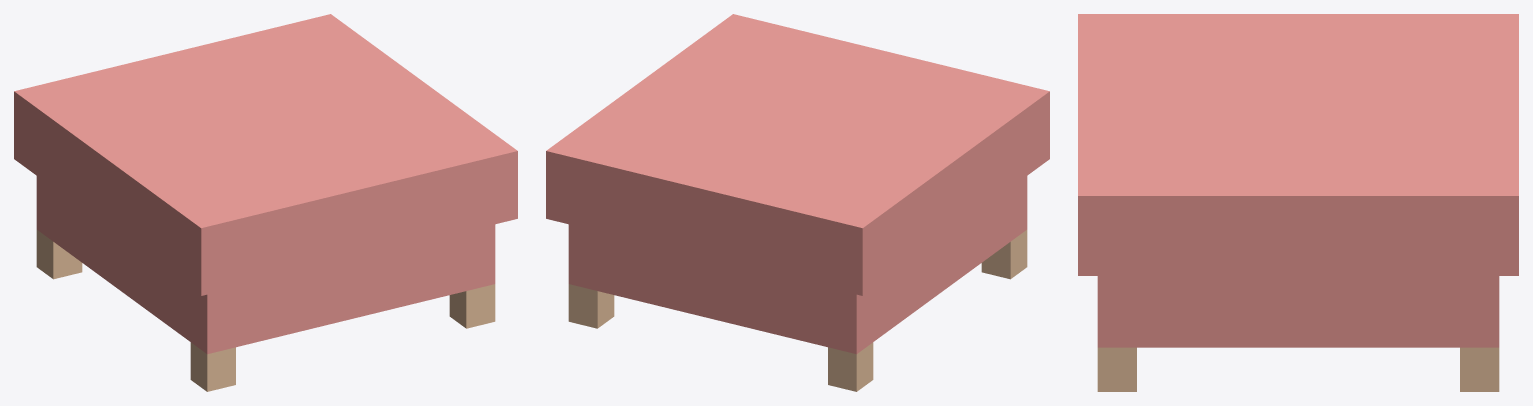
The model's file is loungeSofaOttoman.glb.
3 renders of one model, left to right at view 1: azimuth 30°, elevation 25°; view 2: azimuth 150°, elevation 25°; view 3: azimuth 270°, elevation 25°, orthographic. The views are drawn at different scales.
Parts seen in each view (by area): view 1: loungeSofaOttoman(Clone); view 2: loungeSofaOttoman(Clone); view 3: loungeSofaOttoman(Clone).
Boxes of the visible parts, <box> form: loungeSofaOttoman(Clone): <box>14,14,517,391</box>; loungeSofaOttoman(Clone): <box>546,14,1049,391</box>; loungeSofaOttoman(Clone): <box>1078,14,1518,391</box>.
Bounding box in the file's own units: 0.8929 × 0.4669 × 0.9135.
2 materials, 2 textured.
